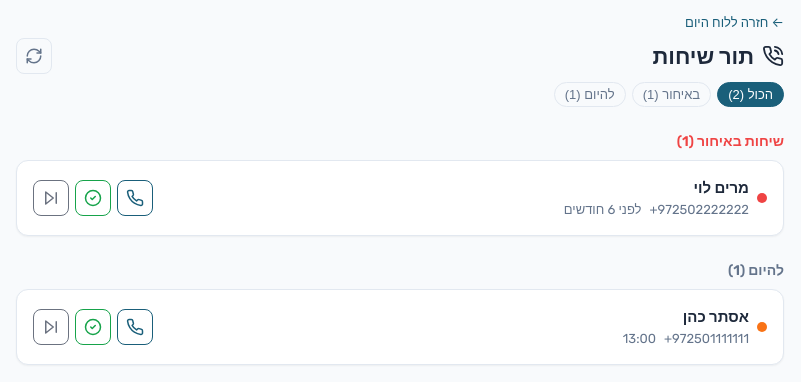
CallsTodayPage › filter chip 'באיחור' hides today rows
Check: the text "אסתר כהן" is shown, box top-left (683, 308), bottom-right (749, 326)
Click the tab "באיחור (1)" at (671, 94), box top-left (632, 82), bottom-right (711, 107)
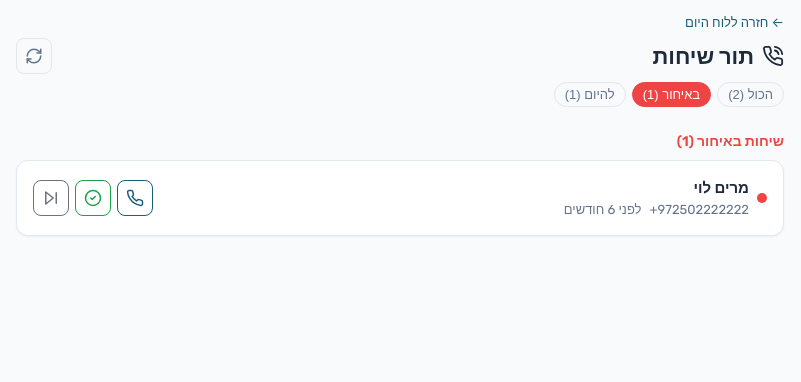
Check: the text "מרים לוי" is shown, box top-left (694, 179), bottom-right (749, 197)
Check: the text "אסתר כהן" is gone
